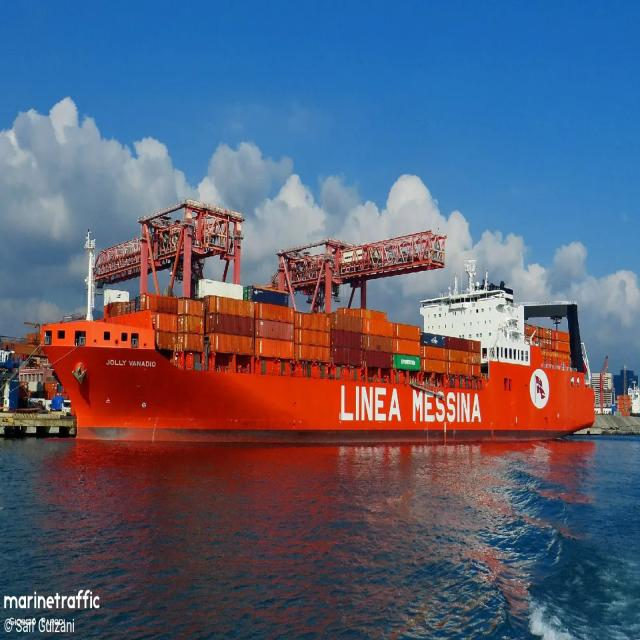Cargo: (39, 232, 597, 445)
